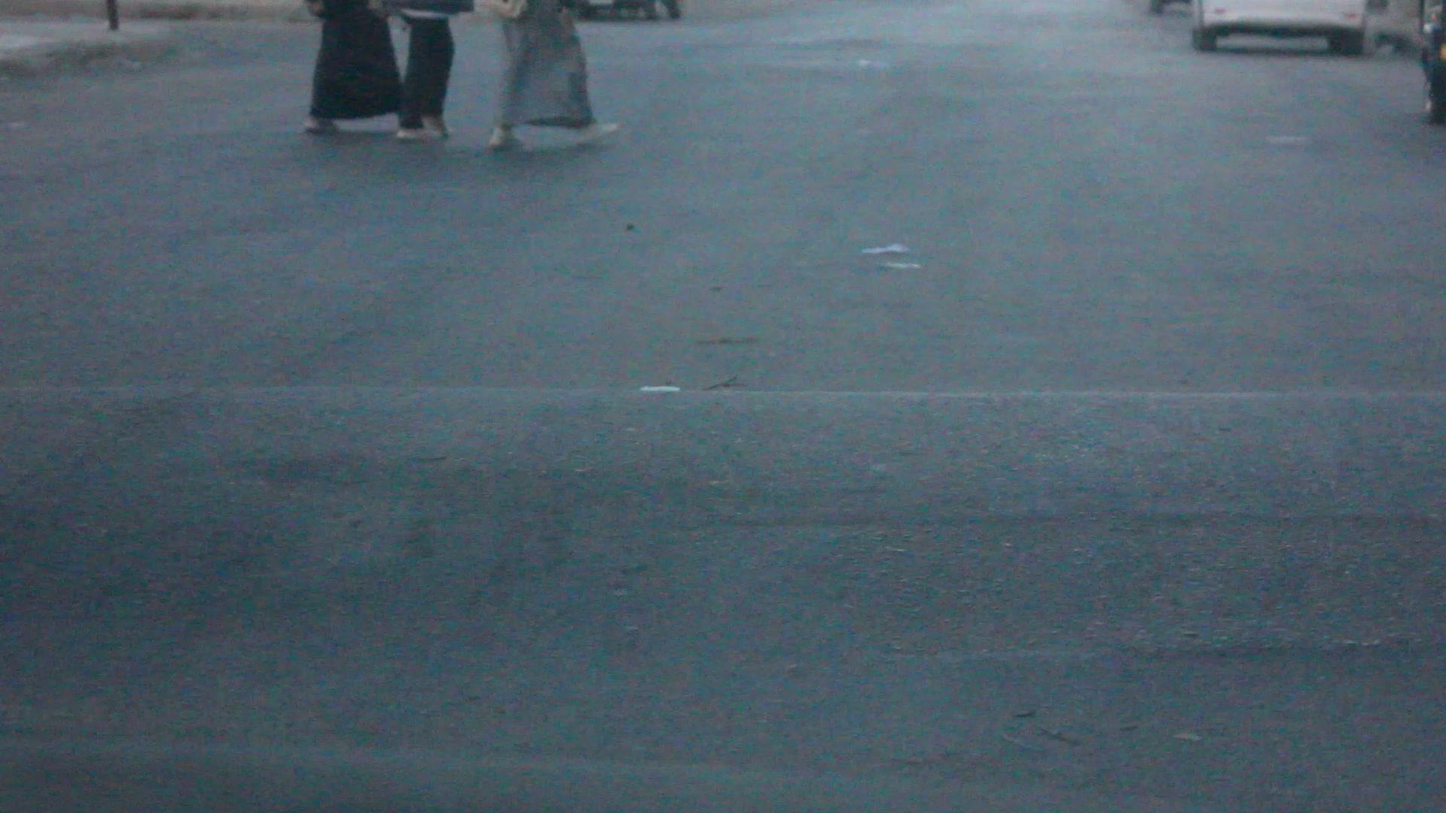Bump: (0, 363, 1445, 642)
